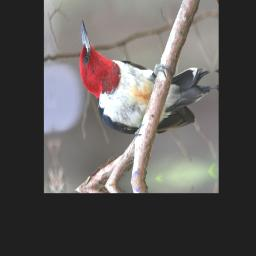Woodpecker: (76, 2, 215, 145)
